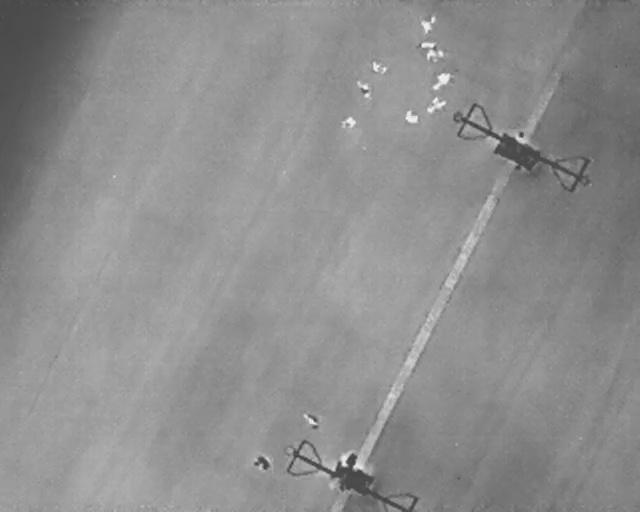Person: (426, 68, 454, 94), (423, 91, 450, 115), (299, 409, 323, 432), (420, 13, 438, 34), (356, 78, 373, 100), (424, 48, 444, 63), (253, 455, 271, 471), (371, 59, 388, 74), (405, 108, 420, 124), (340, 116, 357, 129), (419, 40, 438, 51)
